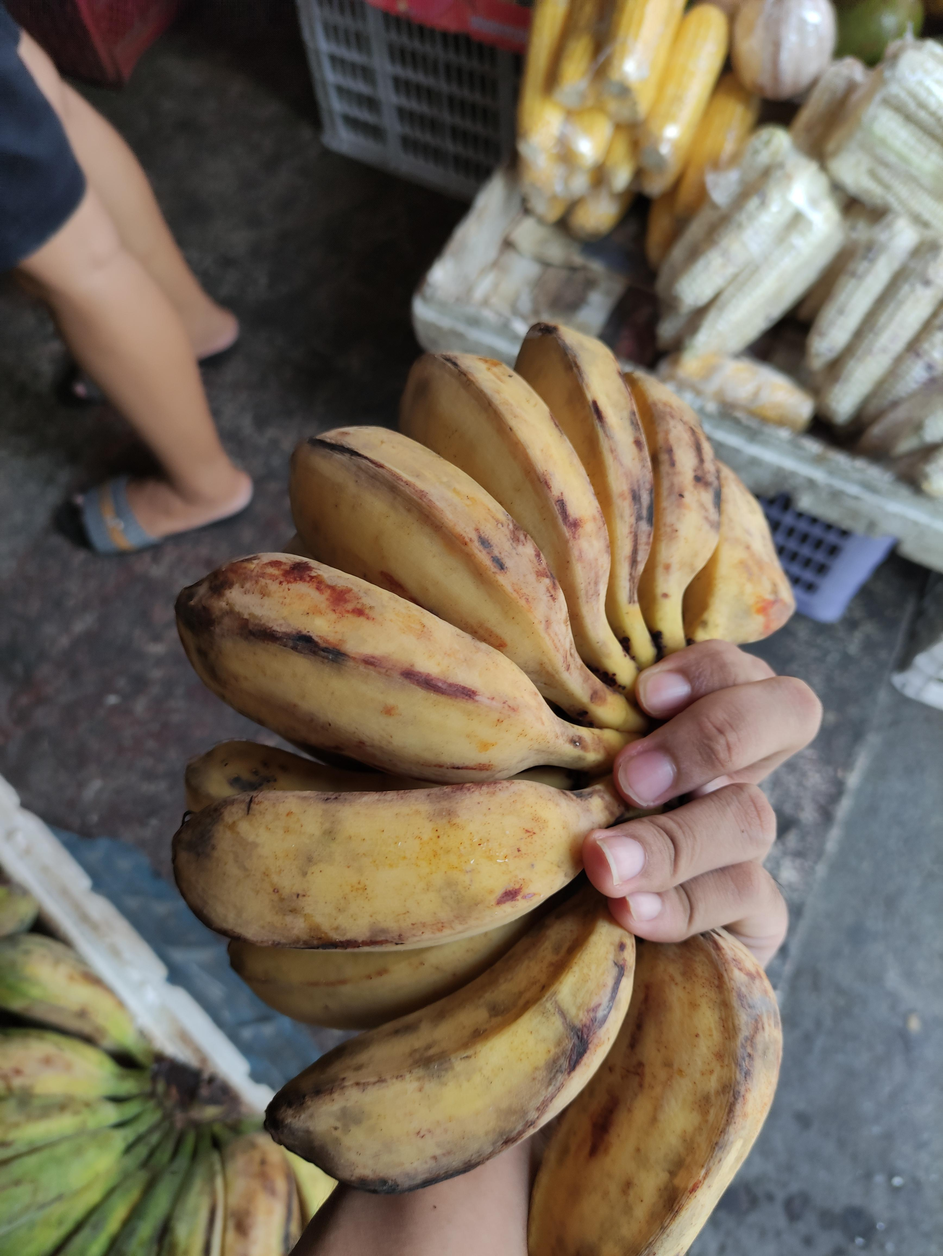ripe: (174, 325, 793, 1256)
